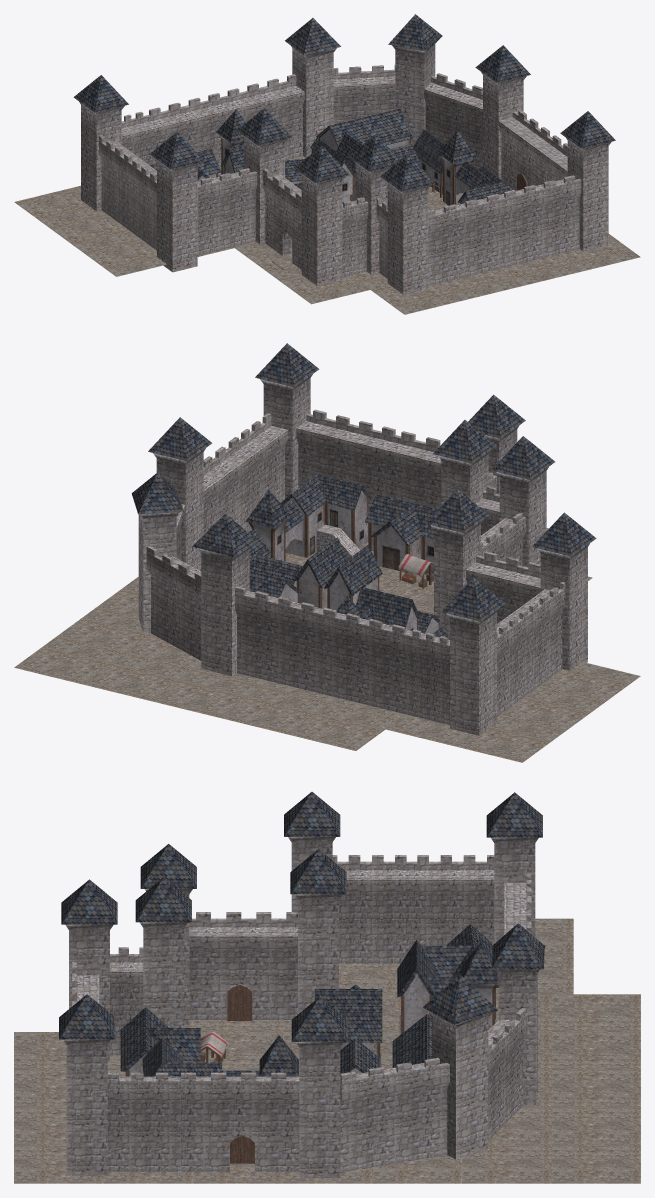
File: medieval_town_two.glb
The picture shows the model from 3 angles, top to bottom: view 1: azimuth 30°, elevation 25°; view 2: azimuth 150°, elevation 25°; view 3: azimuth 270°, elevation 25°; orthographic projection. The views are drawn at different scales.
Parts seen in each view (by area): view 1: obj10, obj1, tower, gate, house8, house3, house2, house4, wall, house6, house5, houseside3; view 2: obj10, obj1, tower, house4, house7, gate, wall, house6, house5, house3, house8, house1 (+2 smaller); view 3: obj10, obj1, gate, tower, wall, house7, house4, house5, house8, house3, house6, house1 (+1 smaller).
Part boxes in pixels (x1,y1,x2,y2): obj10: (73, 14, 615, 294); obj1: (14, 156, 640, 314); tower: (475, 45, 530, 179); gate: (497, 110, 561, 190); house8: (316, 108, 412, 151); house3: (438, 130, 477, 205); house2: (413, 129, 444, 197); house4: (458, 165, 512, 204); wall: (543, 143, 567, 181); house6: (312, 139, 355, 203); house5: (336, 133, 361, 201); houseside3: (454, 161, 477, 194); obj10: (131, 343, 596, 735); obj1: (14, 528, 640, 762); tower: (148, 417, 212, 570); house4: (281, 474, 371, 557); house7: (364, 494, 437, 572); gate: (202, 437, 255, 534); wall: (239, 413, 288, 510); house6: (324, 545, 382, 610); house5: (293, 537, 348, 608); house3: (245, 490, 291, 561); house8: (200, 568, 301, 602); house1: (249, 554, 302, 587); obj10: (59, 792, 544, 1175); obj1: (14, 918, 640, 1183); gate: (181, 1072, 299, 1171); tower: (291, 997, 347, 1177); wall: (107, 1072, 180, 1171); house7: (120, 1007, 200, 1076); house4: (142, 1037, 221, 1139); house5: (331, 1005, 382, 1066); house8: (392, 1014, 432, 1067); house3: (259, 1035, 298, 1076); house6: (314, 989, 382, 1066); house1: (340, 1038, 379, 1073).
Size of the model in its own units: 56 by 17.63 by 56.
Materials: 1 (1 with a texture image).
